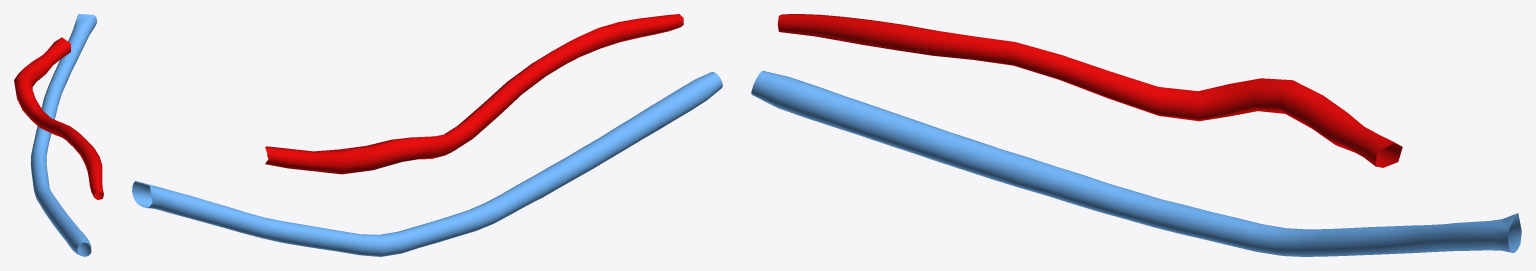
Rendered from VH_M_Blood_Vasculature_Gallbladder.fbx.
3 renders of one model, left to right at view 1: azimuth 30°, elevation 25°; view 2: azimuth 150°, elevation 25°; view 3: azimuth 270°, elevation 25°, orthographic. The views are drawn at different scales.
Visible parts, largest first — view 1: VH_M_cystic_vein, VH_M_cystic_artery; view 2: VH_M_cystic_vein, VH_M_cystic_artery; view 3: VH_M_cystic_vein, VH_M_cystic_artery.
Part boxes in pixels (bbox=[...]): VH_M_cystic_vein: bbox=[30, 14, 96, 256]; VH_M_cystic_artery: bbox=[14, 37, 103, 199]; VH_M_cystic_vein: bbox=[132, 72, 722, 256]; VH_M_cystic_artery: bbox=[265, 14, 683, 174]; VH_M_cystic_vein: bbox=[751, 71, 1521, 256]; VH_M_cystic_artery: bbox=[777, 14, 1402, 167].
Bounding box in the file's own units: 2.35 × 1.02 × 3.85.
